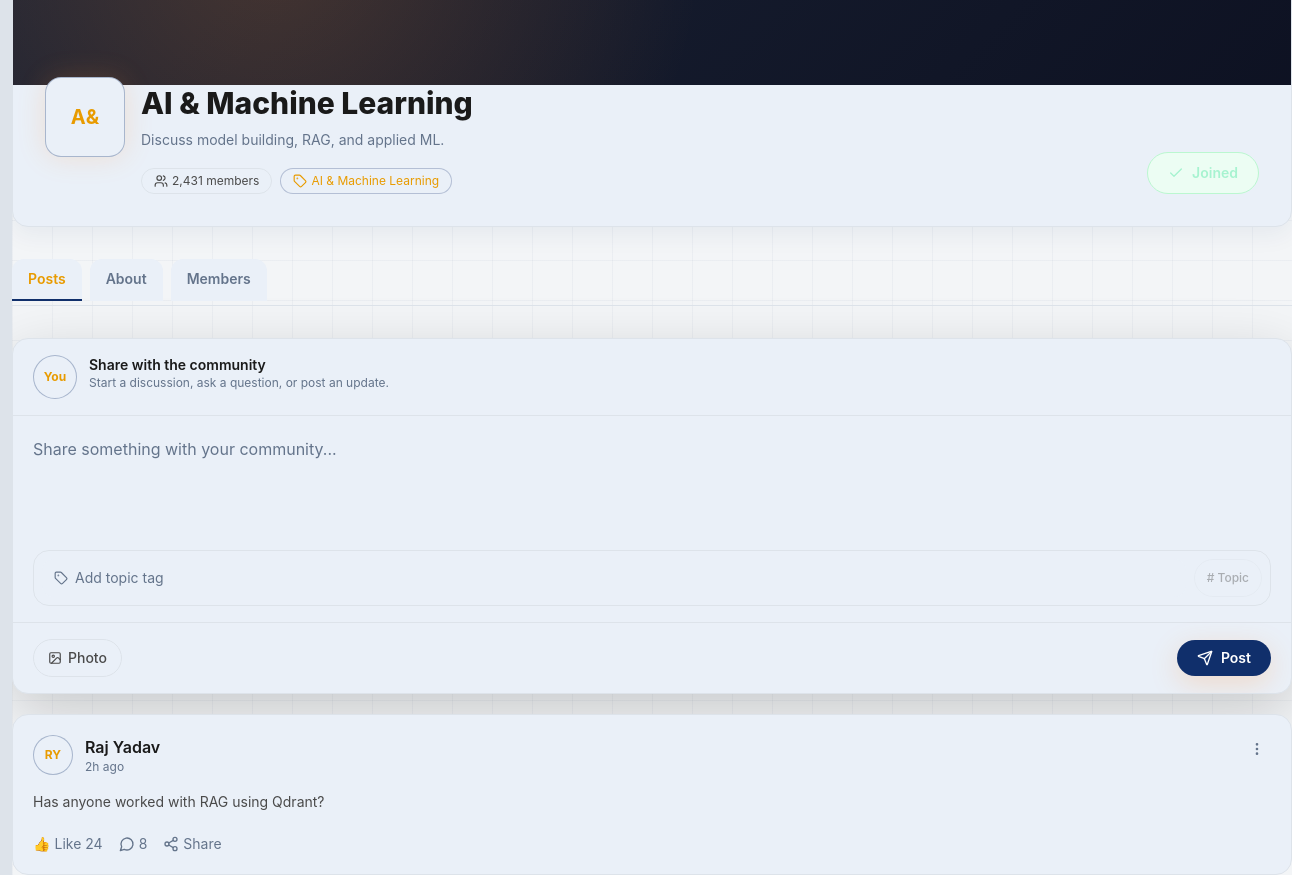
Test case: CommunityDetailPage › comments open, list existing comments, and submit a new comment
The image size is (1292, 875).
(page scrolled)
Check: the text "Has anyone worked with RAG using Qdrant?" is shown, box [33,793,324,810]
Click the button "8". click: (133, 844)
box: [119,834,147,854]
(page scrolled)
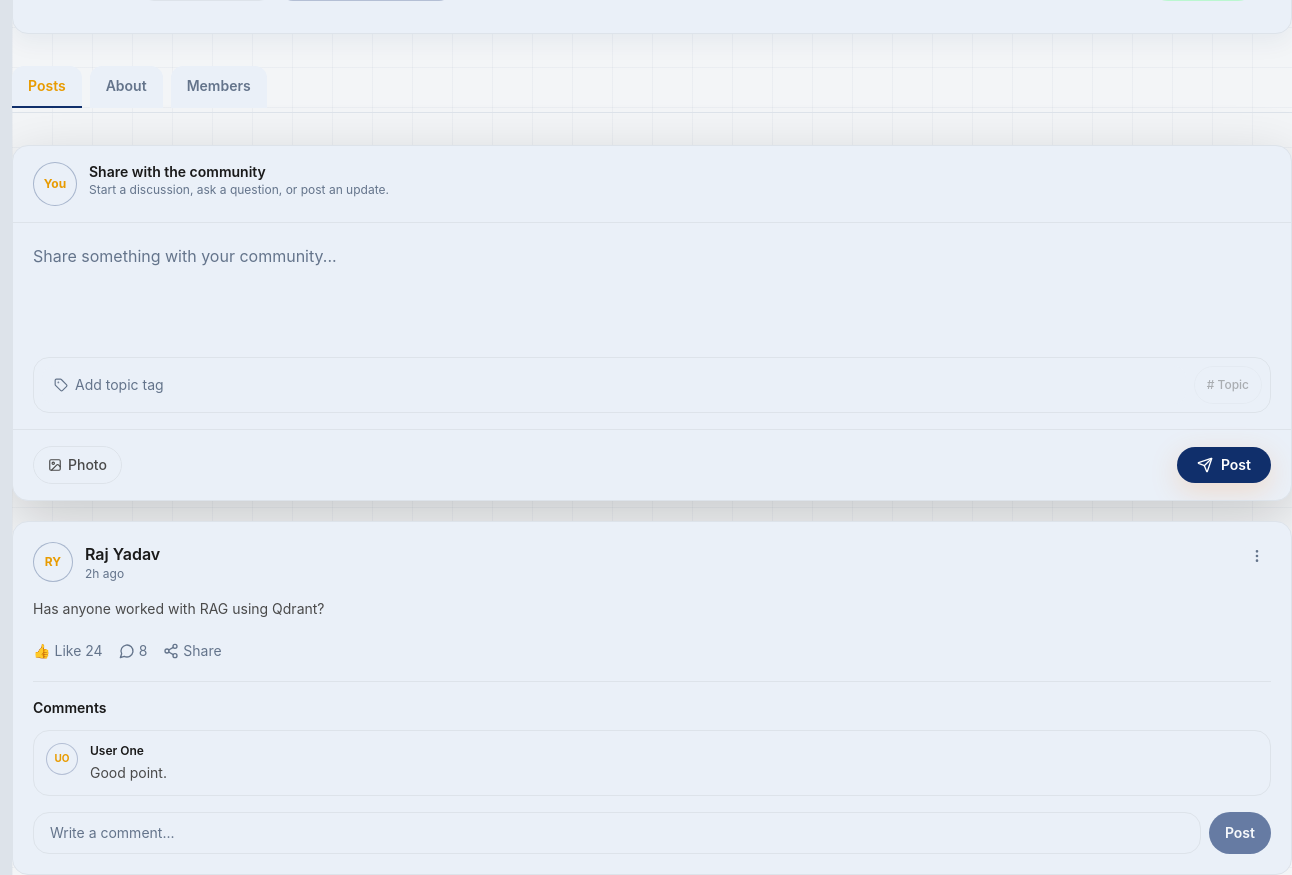
Check: the text "Good point." is shown, box [90,762,167,782]
Type "I agree." into the field with placeholder "Write a comment...". click: (617, 832)
box: [33,812,1201,854]
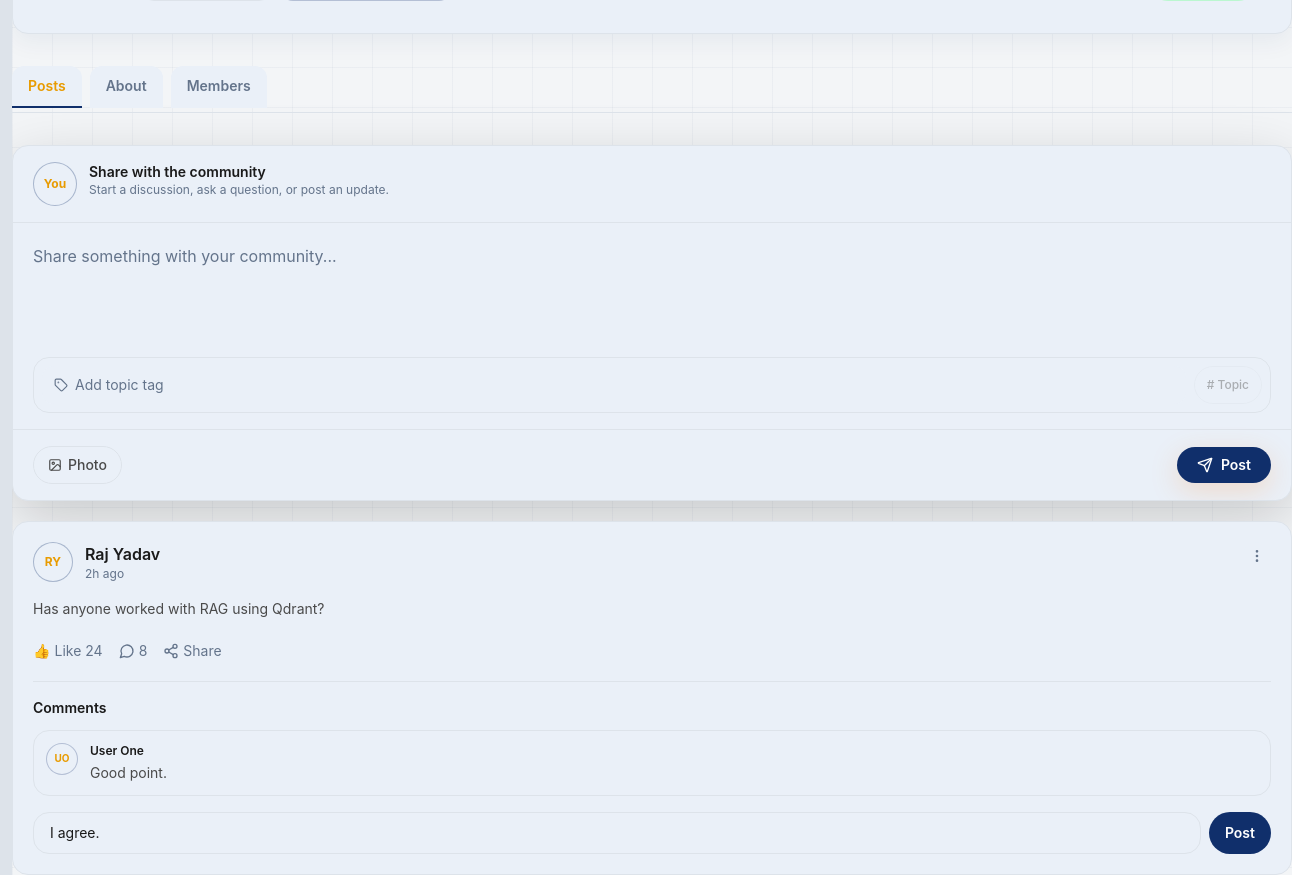
Click the 2nd button "Post". click: (1240, 832)
box: [1209,812,1271,854]
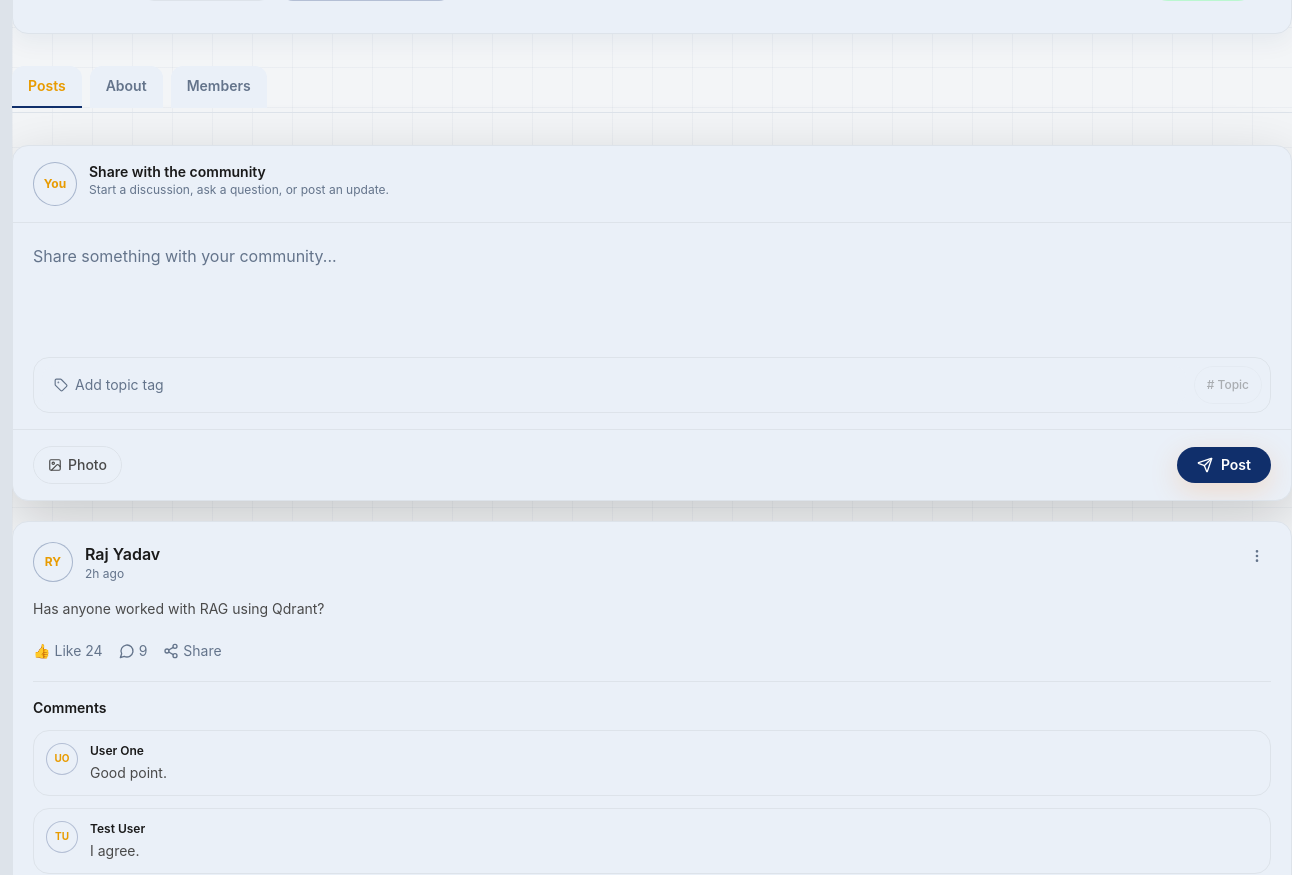
Check: the text "Test User" is shown, box [90,820,145,836]
